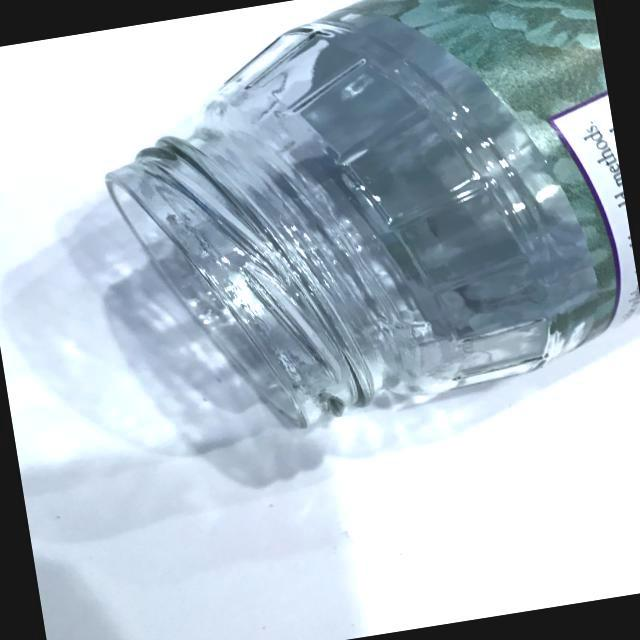glass: (60, 0, 640, 487)
